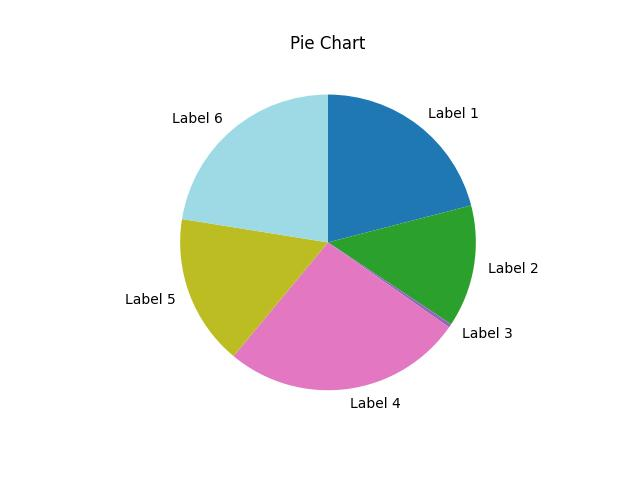sector: (233, 242, 447, 391), (181, 94, 329, 244), (330, 93, 473, 241), (179, 218, 329, 358), (329, 203, 475, 325), (330, 242, 451, 328)
